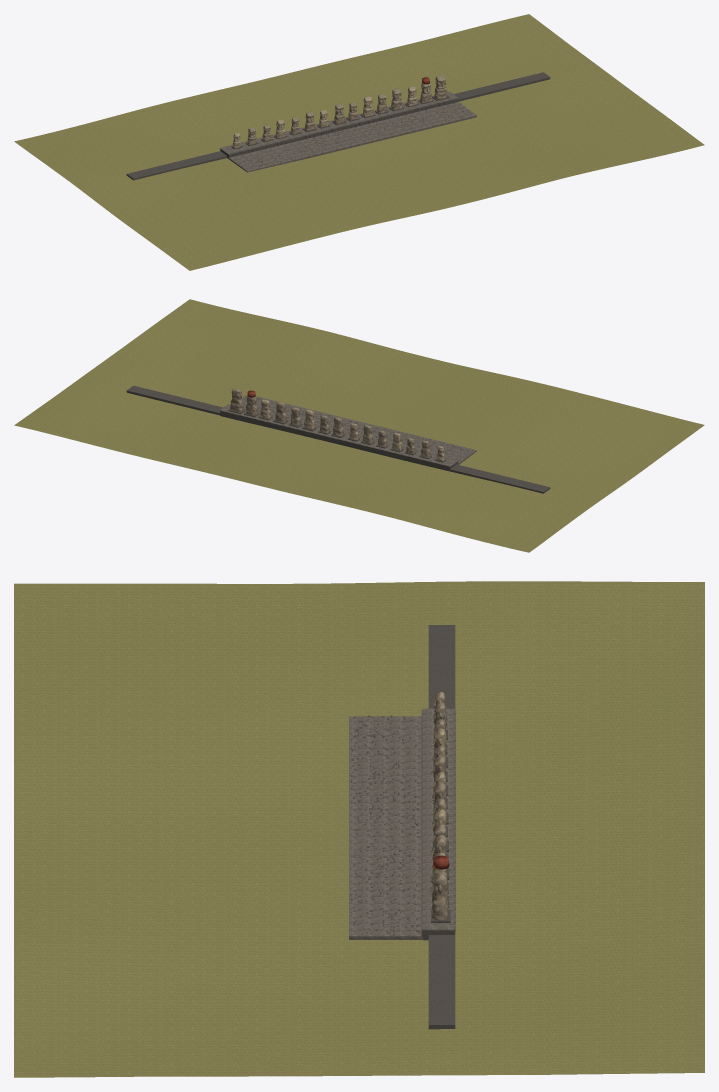
The model's file is moai.glb.
3 views of the same model, one above another, from view 1: azimuth 30°, elevation 25°; view 2: azimuth 150°, elevation 25°; view 3: azimuth 270°, elevation 25° (orthographic). The views are drawn at different scales.
Visible parts, largest first — view 1: Moai; view 2: Moai; view 3: Moai.
Part boxes in pixels (left/top/right/bottom): Moai: left=14, top=14, right=704, bottom=270; Moai: left=14, top=299, right=704, bottom=552; Moai: left=14, top=581, right=704, bottom=1077.
Size of the model in its own units: 220 by 11.72 by 130.
Materials: 7 (7 with a texture image).
